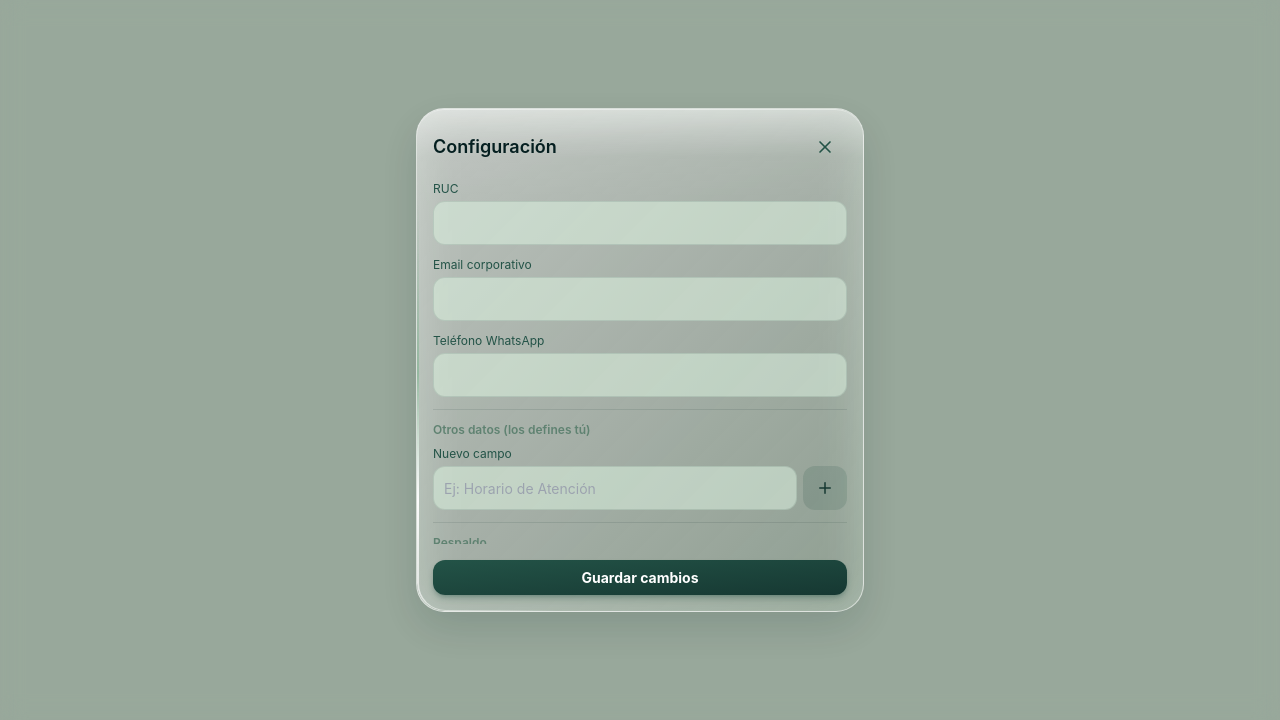
Test: SettingsPanel › adding a new custom field via Enter clears the input
Type "Tarifas" into the field labelled "Nuevo campo" at (615, 488), box [433,466,797,510]
Then press Enter
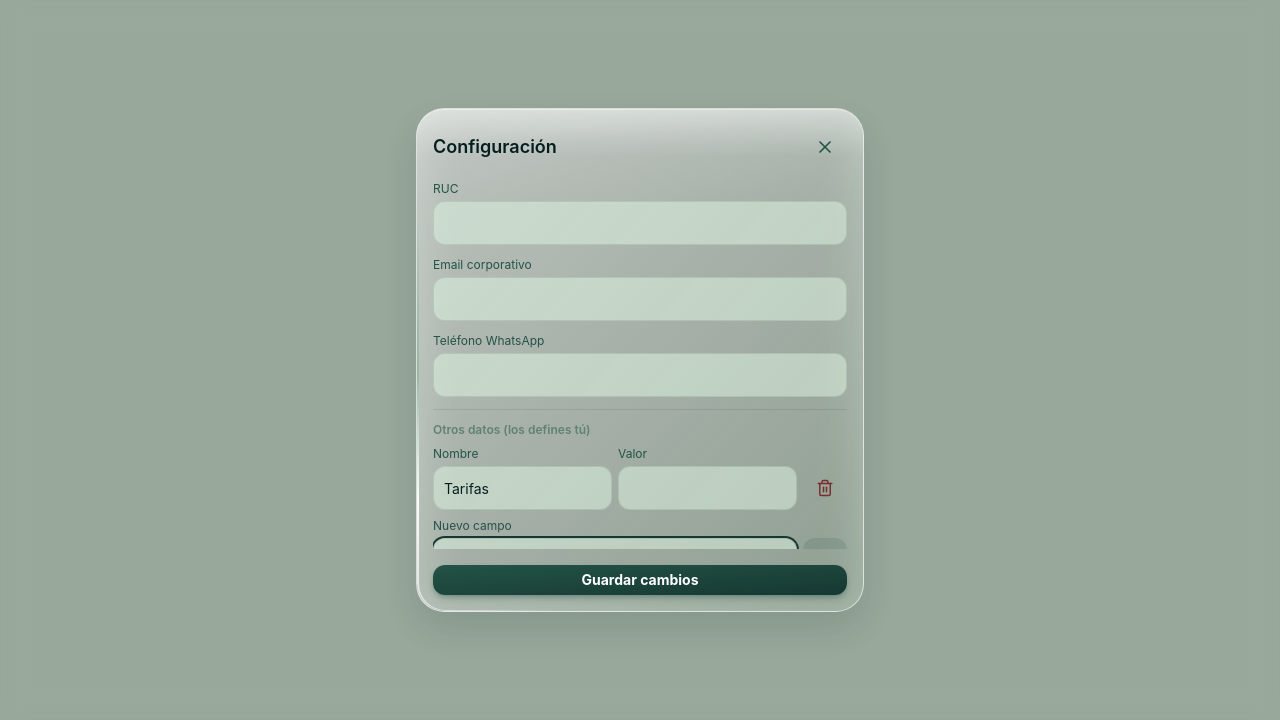
Check: the field labelled "Nombre" holds "Tarifas", box [433,466,612,510]
